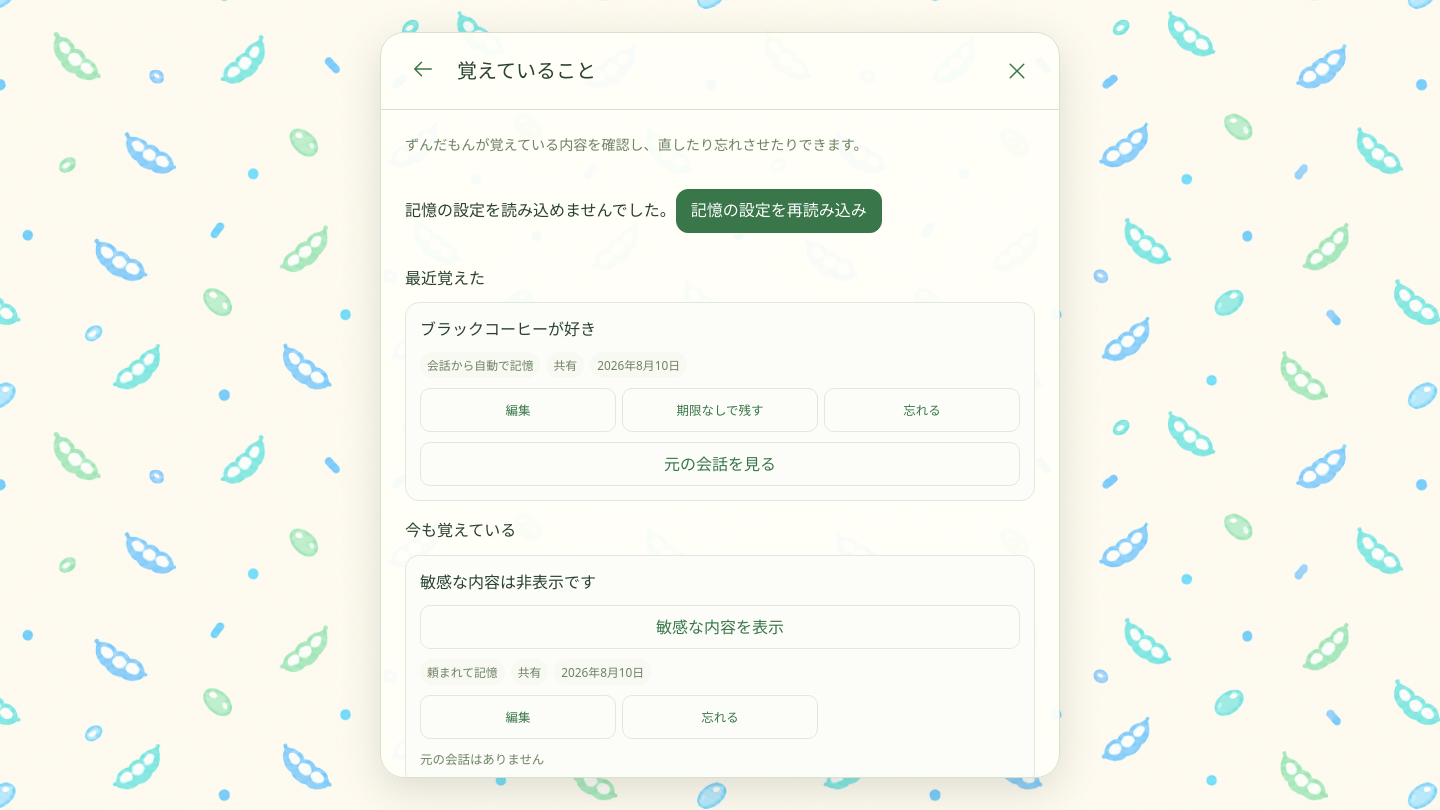
saved memories › renders successful resources when settings fail and retries only settings
Expected: the text "ブラックコーヒーが好き" is shown, [420,318,596,340]
Expected: the message shows "記憶の設定を読み込めませんでした", [405,199,676,221]
Click the button "記憶の設定を再読み込み": point(779, 210) [676,188,882,232]
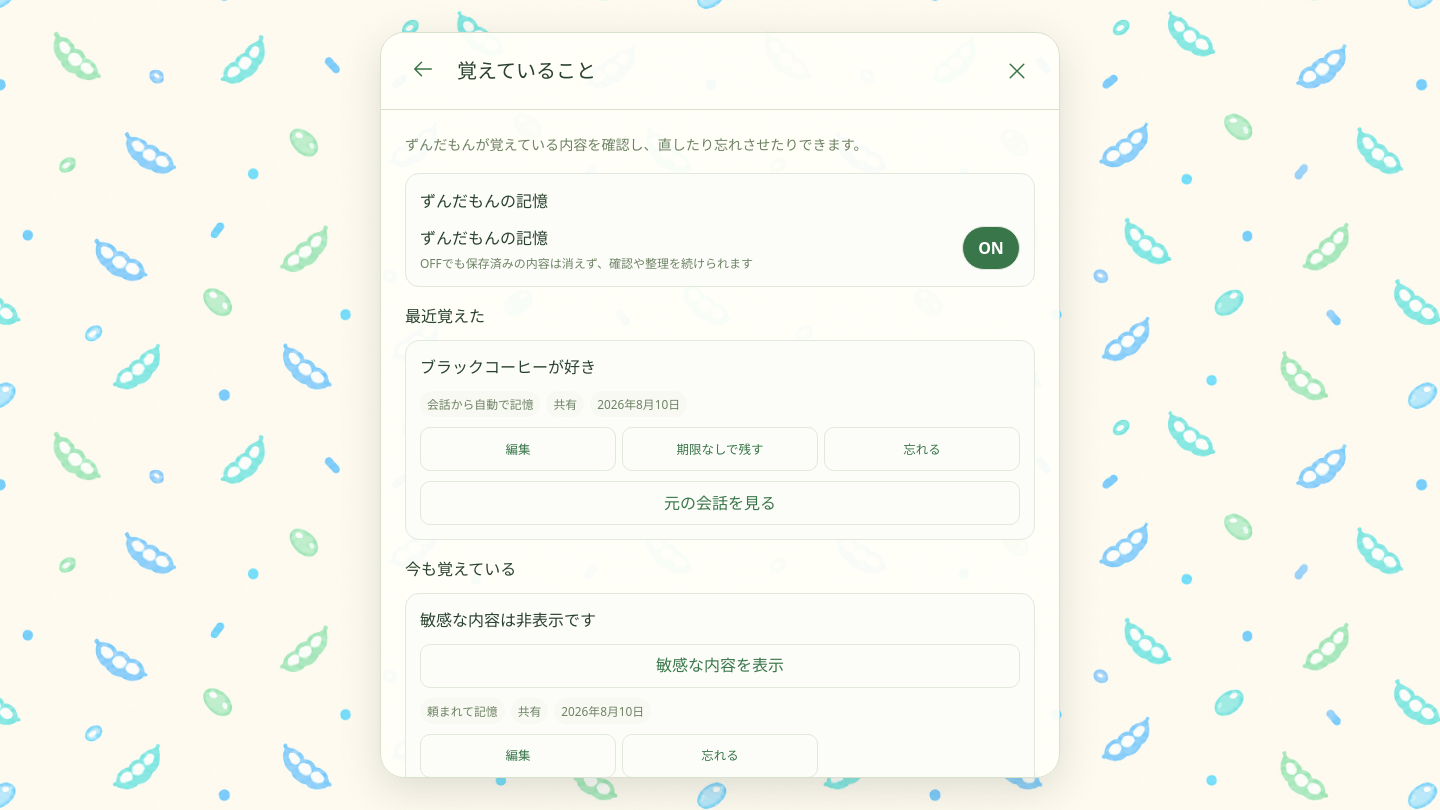
Result: the switch named "ずんだもんの記憶" is shown at [962,226,1020,270]
